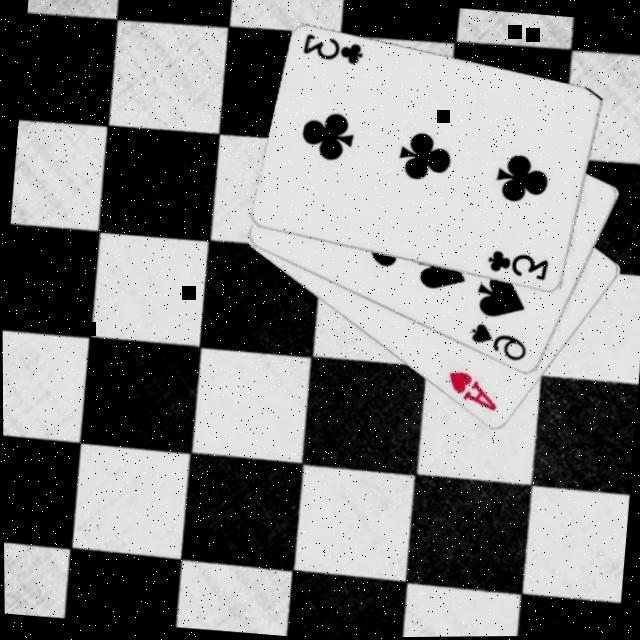3C: (480, 245, 550, 284), (296, 29, 365, 68)
9S: (463, 318, 528, 363)
AH: (439, 366, 500, 414)
